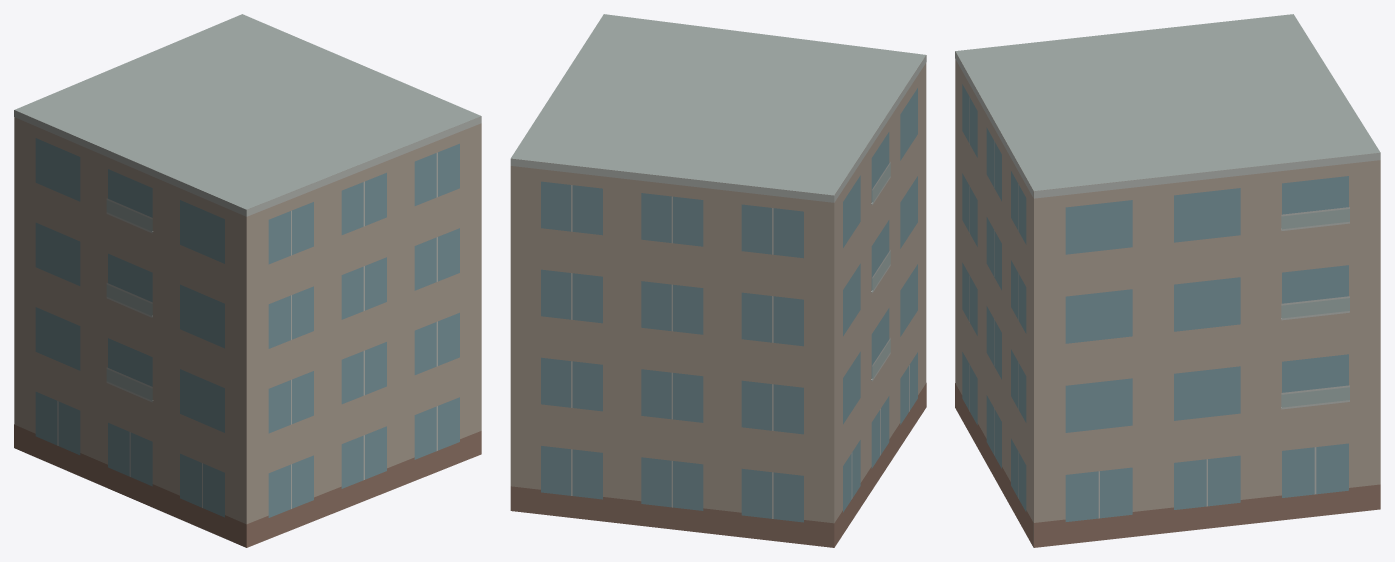
File: survey-upis-32658634.glb
3 renders of one model, left to right at view 1: azimuth 30°, elevation 25°; view 2: azimuth 150°, elevation 25°; view 3: azimuth 270°, elevation 25°, orthographic. The views are drawn at different scales.
Parts seen in each view (by area): view 1: survey-upis-32658634.tmp; view 2: survey-upis-32658634.tmp; view 3: survey-upis-32658634.tmp.
Part boxes in pixels (<box>): survey-upis-32658634.tmp: <box>14,14,481,547</box>; survey-upis-32658634.tmp: <box>510,14,926,547</box>; survey-upis-32658634.tmp: <box>955,14,1380,547</box>.
Bounding box in the file's own units: 12.48 × 11.7 × 12.66.
